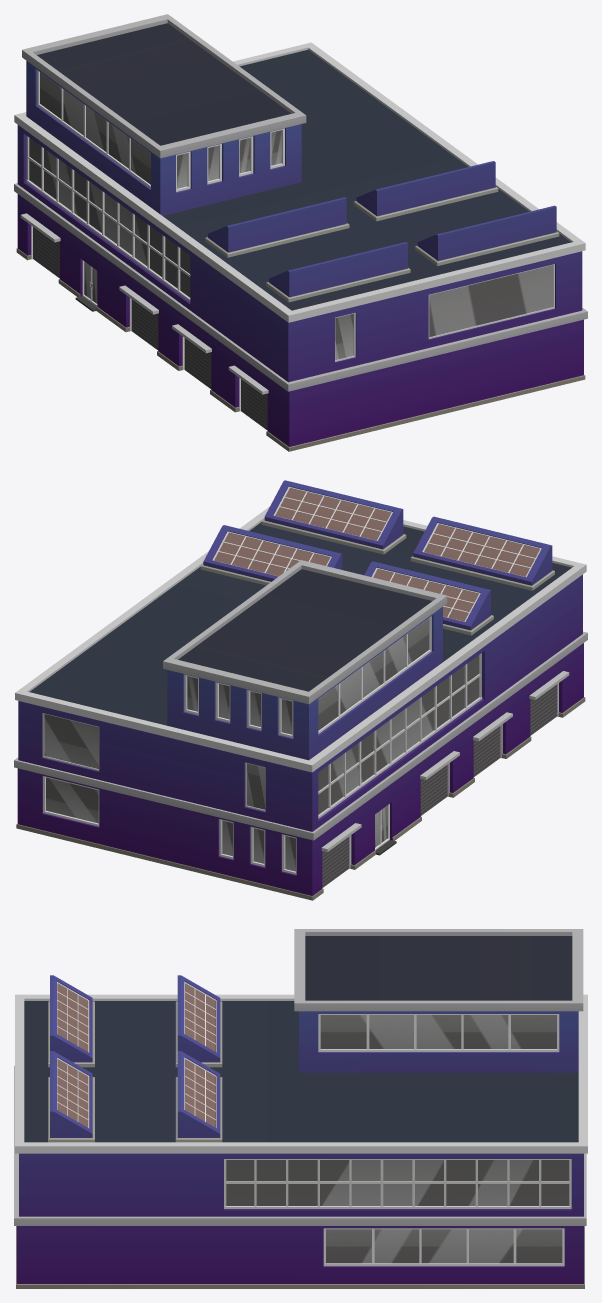
The model's file is Building_Factory_4_C.fbx.
3 renders of one model, top to bottom at view 1: azimuth 30°, elevation 25°; view 2: azimuth 150°, elevation 25°; view 3: azimuth 270°, elevation 25°, orthographic. The views are drawn at different scales.
Parts seen in each view (by area): view 1: Building_Factory_4_C; view 2: Building_Factory_4_C; view 3: Building_Factory_4_C.
Part boxes in pixels (x1=…): Building_Factory_4_C: x1=14, y1=14, x2=587, y2=451; Building_Factory_4_C: x1=14, y1=480, x2=587, y2=900; Building_Factory_4_C: x1=14, y1=929, x2=587, y2=1288.
Bounding box in the file's own units: 1820 × 1159 × 2856.
